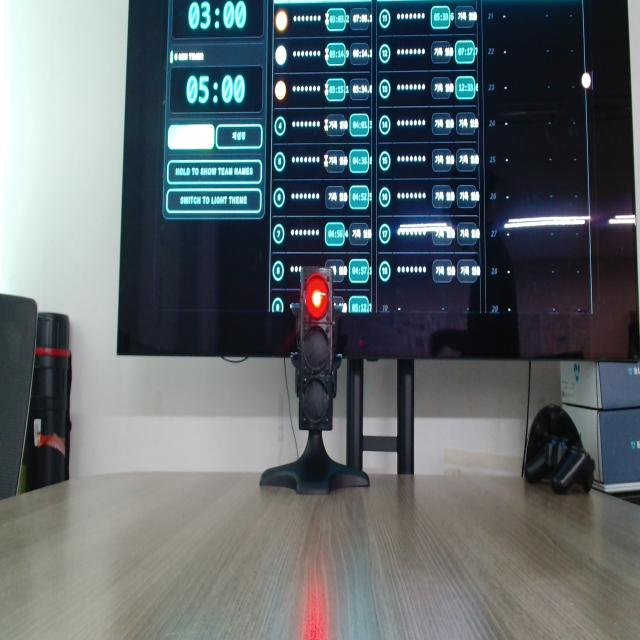red_light: (305, 274, 329, 319)
